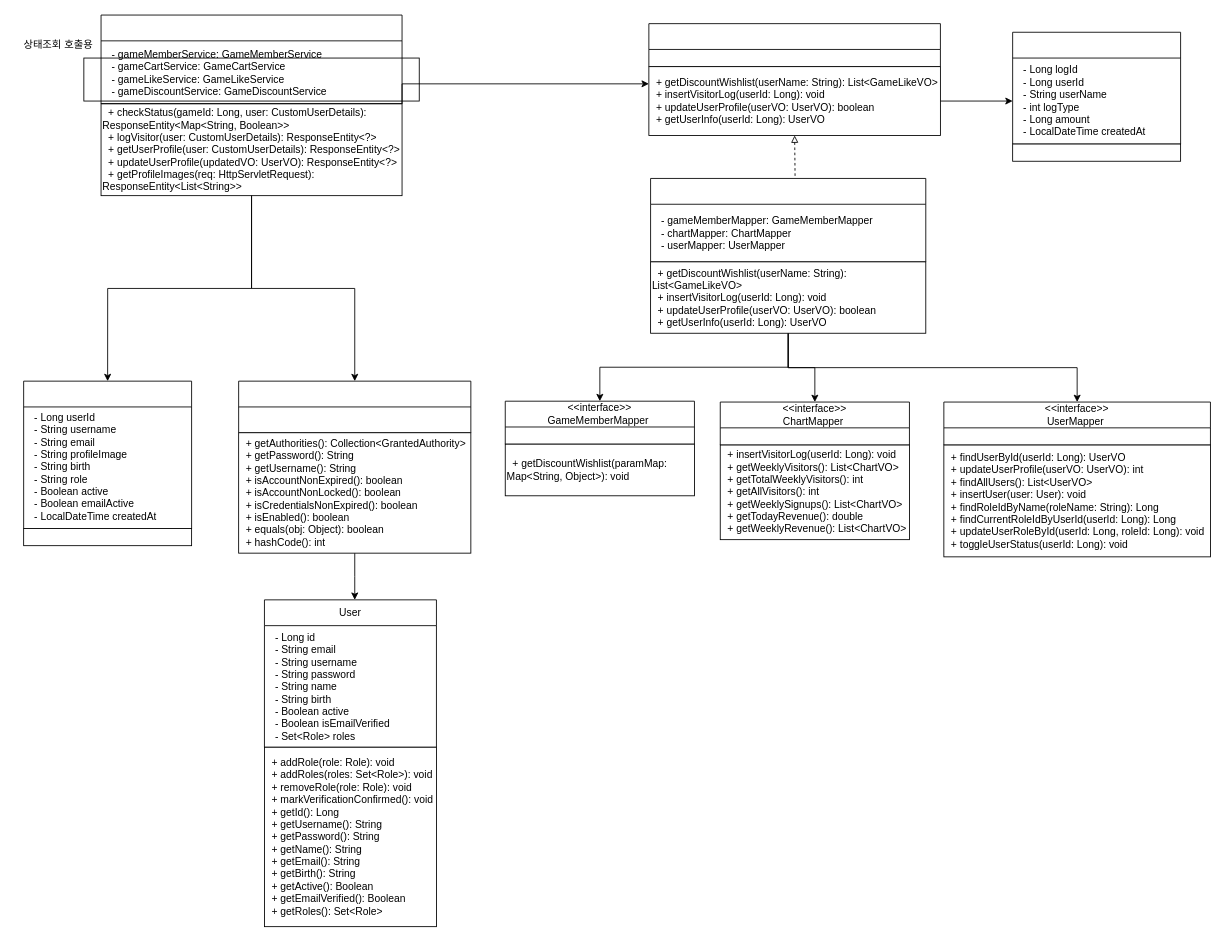
This 1226x942 diagram has some shape labels left out. The box of each missing label's shape, as (x1, y1, x2, y2) in pixels:
<<interface>> GameMemberService: (648, 23, 940, 67)
CustomUserDetails: (238, 380, 471, 433)
GameLikeVO: (1012, 31, 1181, 144)
GameMemberController: (100, 14, 402, 104)
GameMemberServiceImpl: (650, 178, 926, 262)
UserVO: (23, 380, 192, 529)
